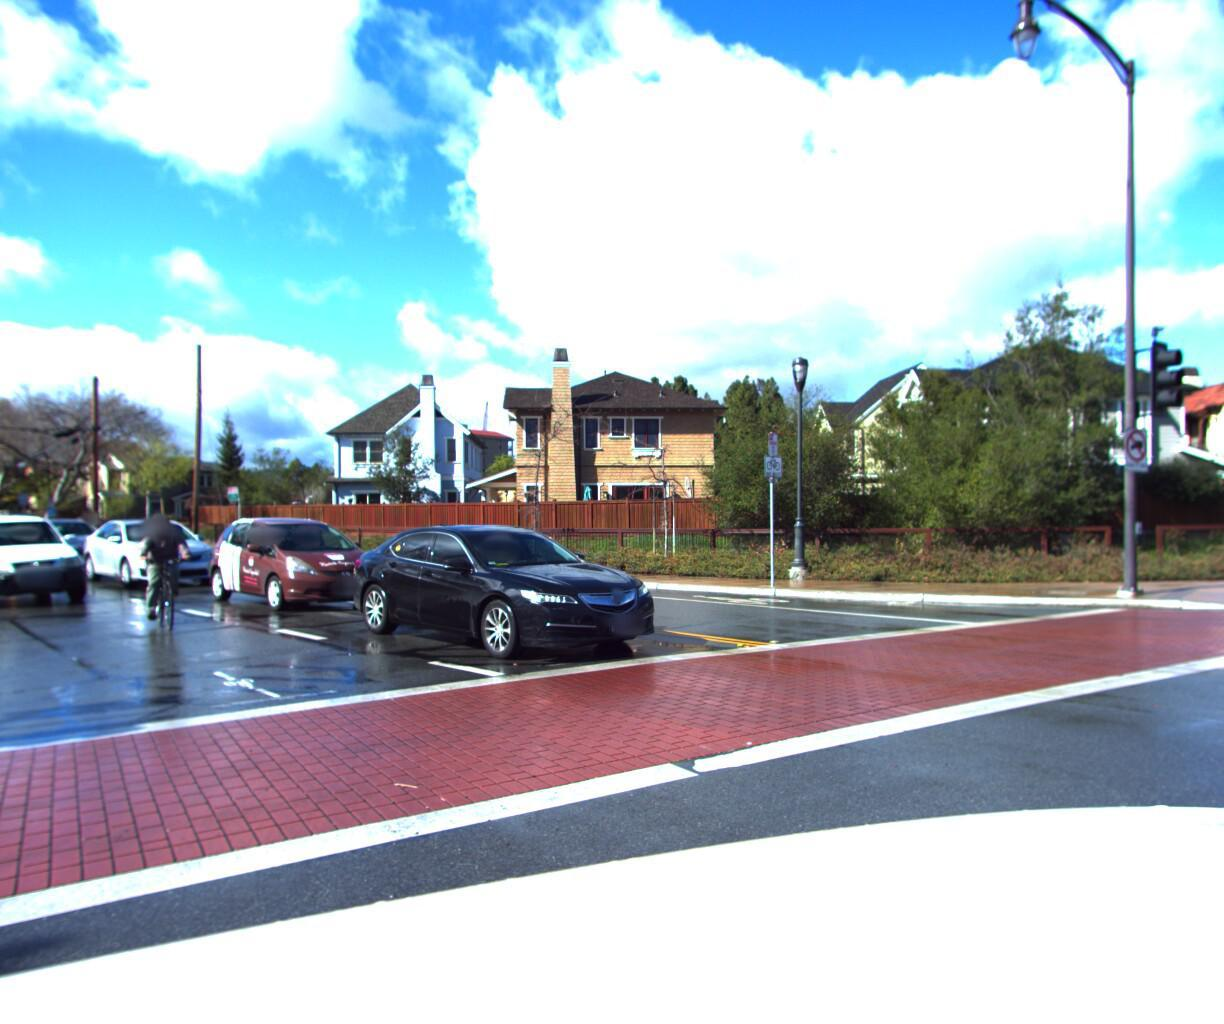bicycle: (122, 514, 206, 638)
car: (331, 519, 696, 678), (198, 509, 408, 620), (73, 513, 234, 593), (0, 511, 94, 615), (1, 514, 130, 576)
